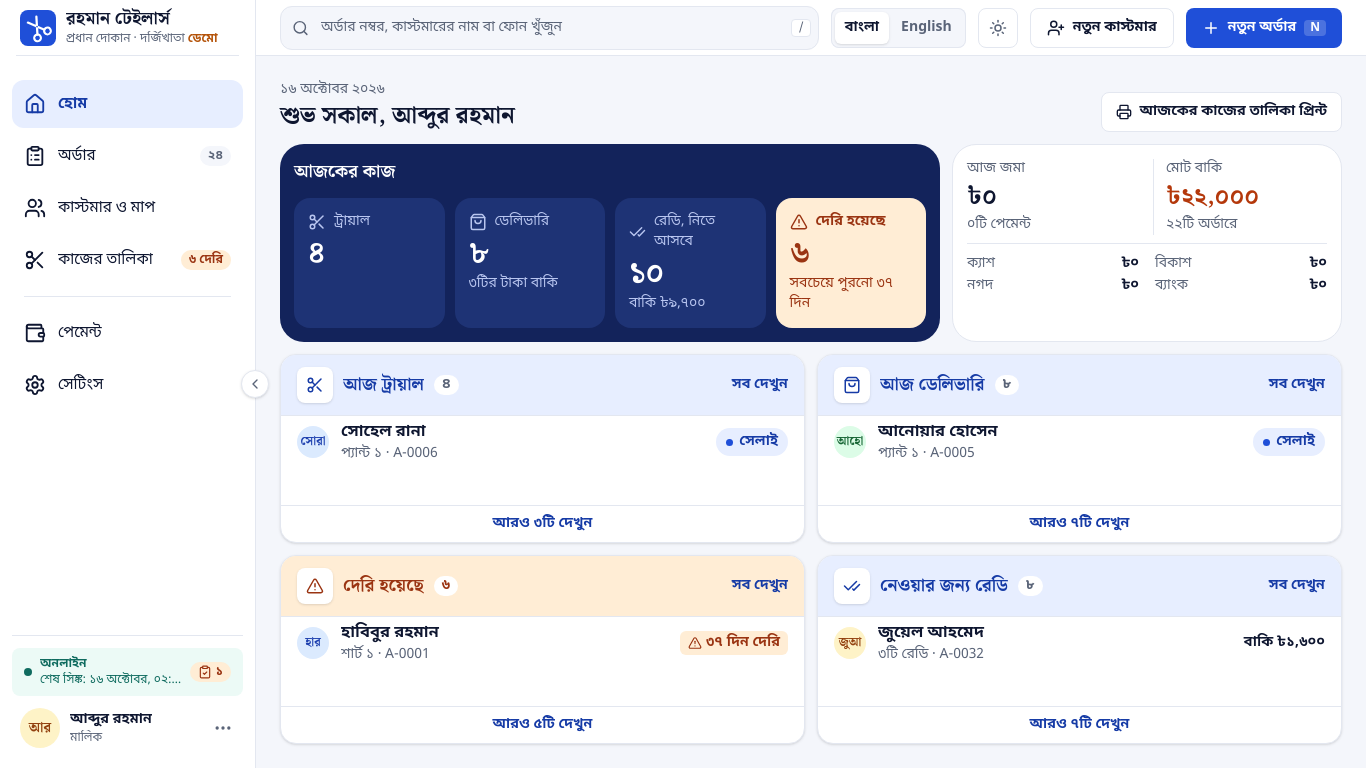
Test: Desktop sidebar and top bar › folds to a rail of icons and short names, keeps every link and count, and remembers it
What coordinates should you click on to do the following:
click the button named "মেনু ছোট করুন"
I would click on:
 (255, 384)
Its box is [241,370,269,398].
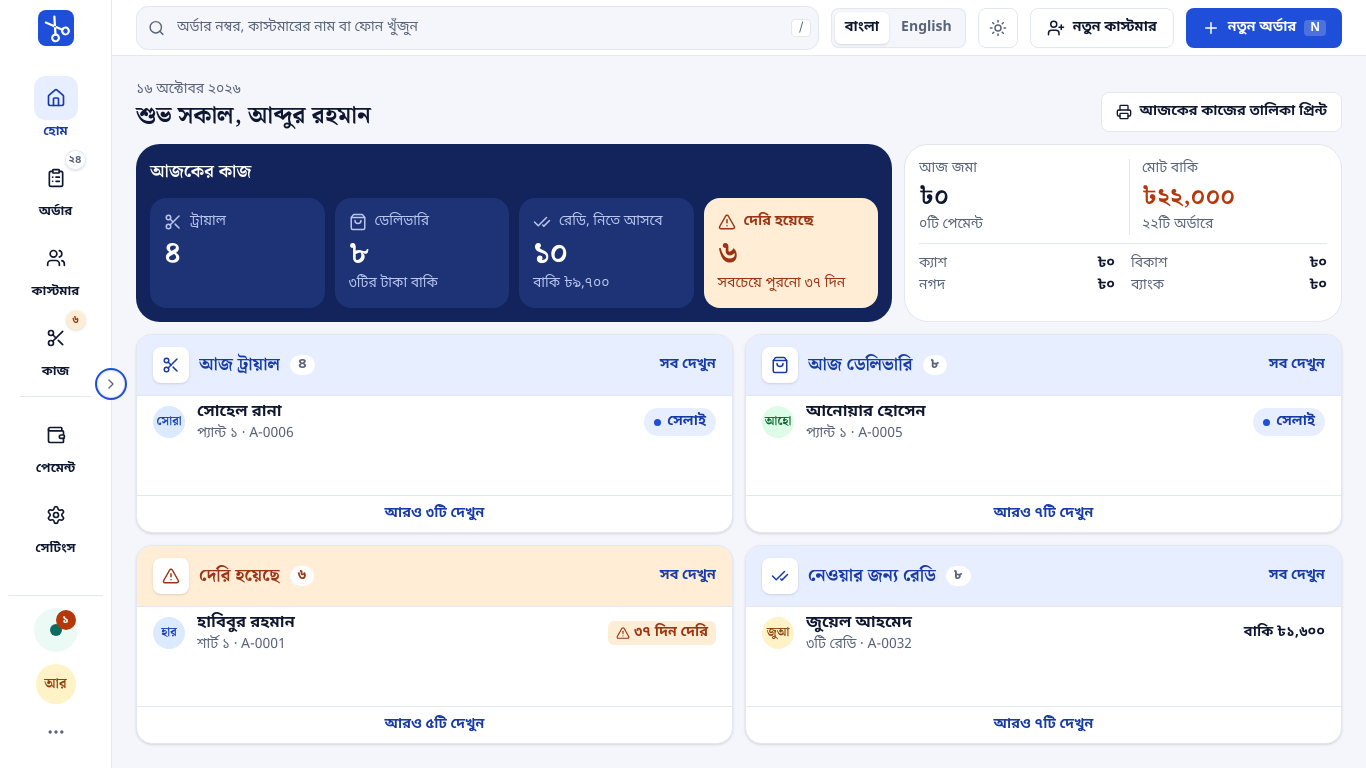
expect the link named "কাজের তালিকা" shows "কাজ": met, box [42,310,86,380]
expect the button named "মেনু বড় করুন" is collapsed: met
What coordinates should you click on to do the following:
click the button named "মেনু বড় করুন"
I would click on:
 (111, 384)
Its box is [97,370,125,398].
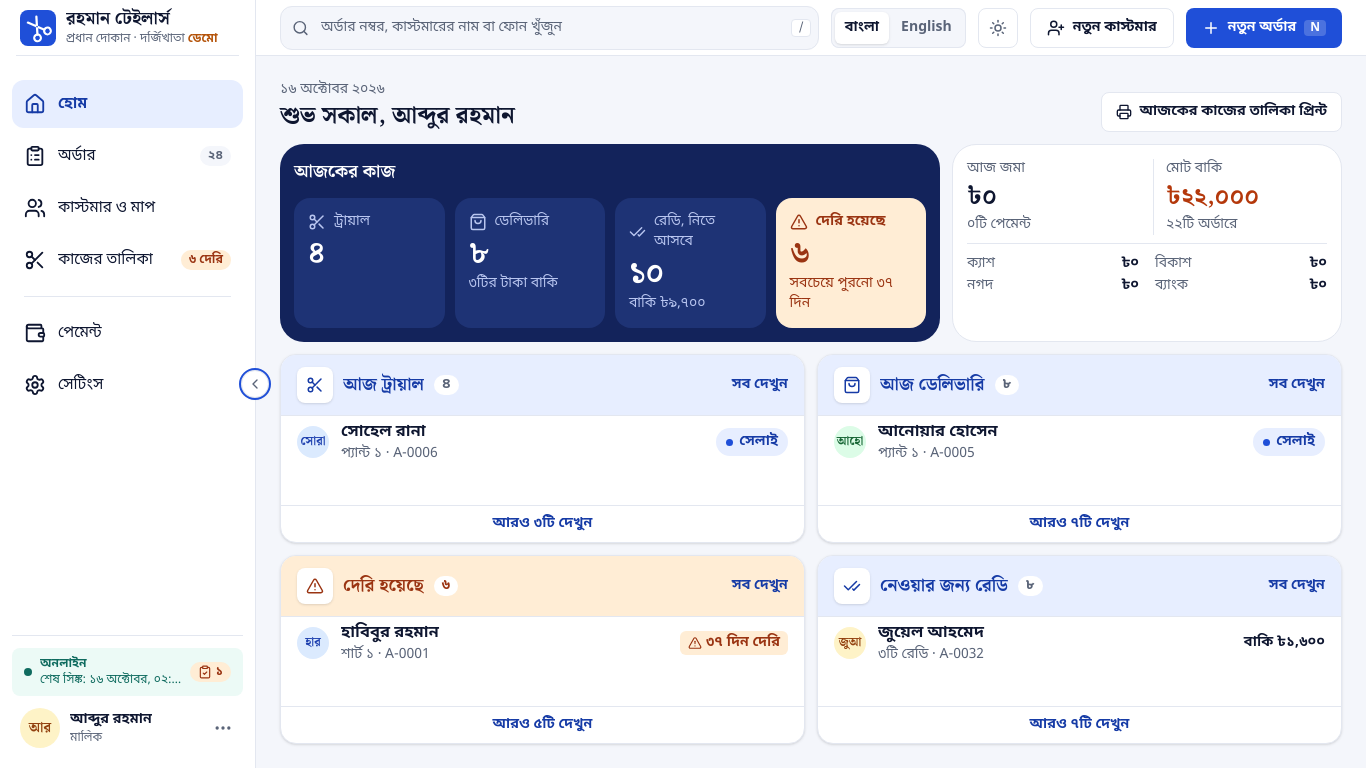
expect the button named "মেনু ছোট করুন" is expanded: met, box [241,370,269,398]
